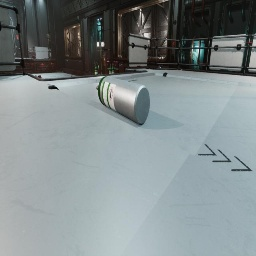0: (96, 76, 150, 125), (95, 62, 98, 75), (109, 63, 112, 74), (112, 63, 114, 74), (33, 75, 37, 77), (36, 58, 37, 59)
EmergencyPhone ,: (84, 58, 86, 63), (18, 34, 19, 38), (85, 60, 85, 60)
FireAlarm ,: (172, 41, 175, 47), (16, 35, 19, 39)
FireExtinguisher ]: (38, 75, 42, 78), (25, 72, 27, 73)
FirstAidBox ,: (71, 76, 72, 77)
NitrogenTank ,: (107, 58, 111, 74), (115, 58, 119, 73), (113, 58, 116, 73), (109, 58, 112, 68), (32, 55, 36, 59)
SafetySwitchPanel ,: (103, 52, 107, 66)
